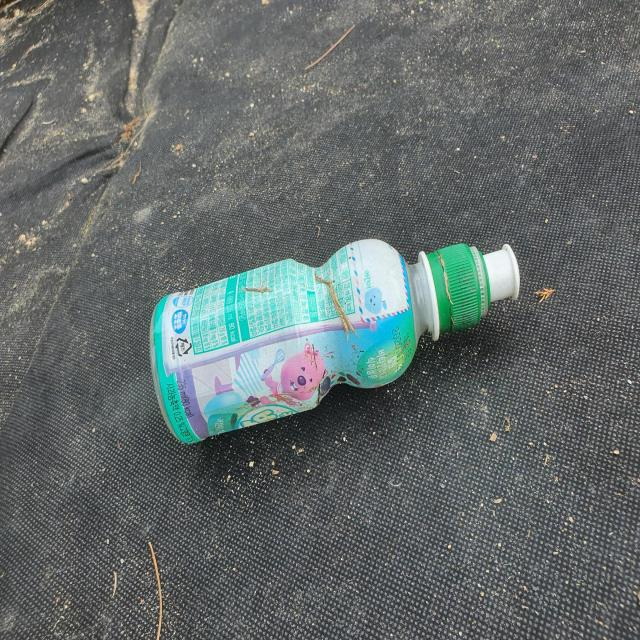plastic: (150, 239, 521, 443)
